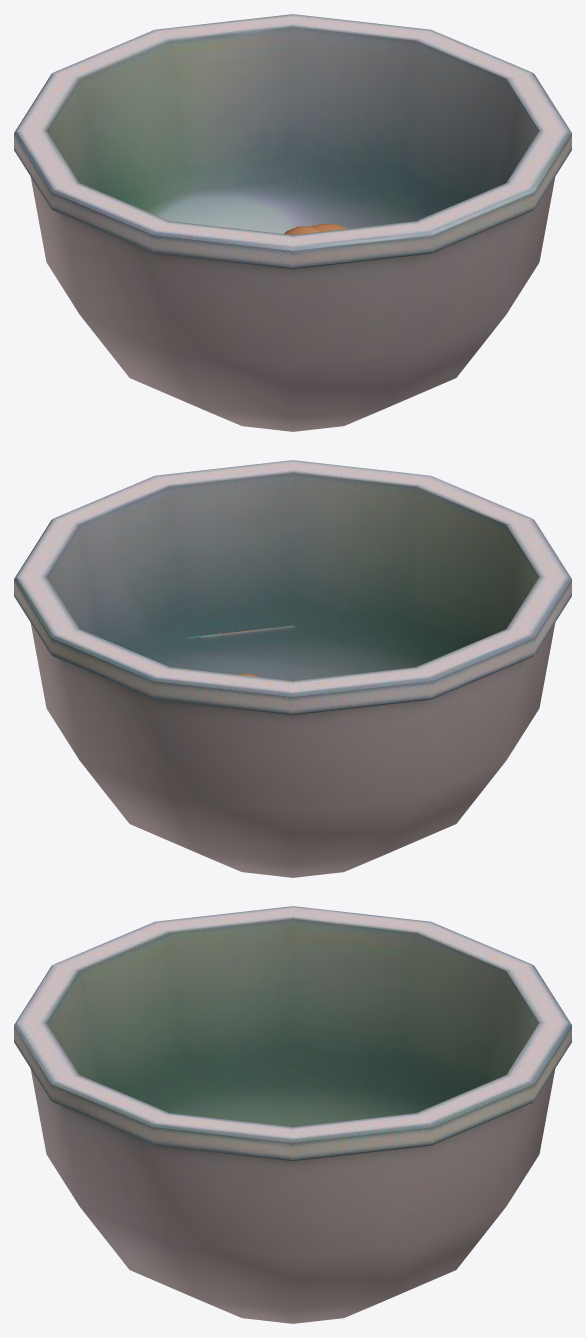
File: mixingBowlEggs.glb
The picture shows the model from 3 angles, top to bottom: view 1: azimuth 30°, elevation 25°; view 2: azimuth 150°, elevation 25°; view 3: azimuth 270°, elevation 25°; orthographic projection.
Parts seen in each view (by area): view 1: MixingBowl; view 2: MixingBowl; view 3: MixingBowl.
Part boxes in pixels (x1,y1,x2,y2): MixingBowl: (14, 14, 571, 431); MixingBowl: (14, 460, 571, 877); MixingBowl: (14, 906, 571, 1323).
Bounding box in the file's own units: 0.3931 × 0.2142 × 0.3931.
2 materials, 2 textured.
